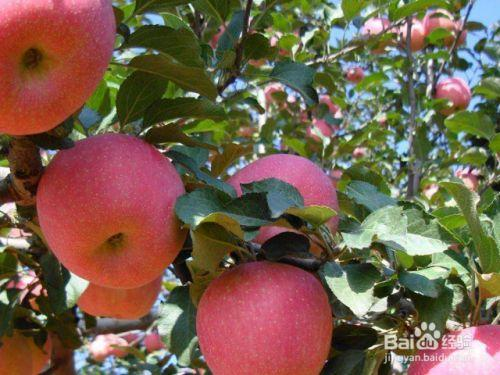apple: (34, 135, 189, 290), (1, 1, 117, 139), (196, 261, 336, 374), (220, 151, 340, 258), (429, 76, 471, 116), (342, 65, 367, 84)
